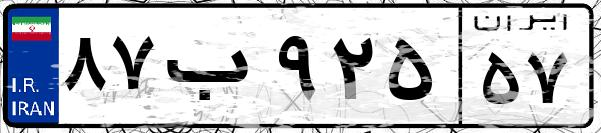2: (330, 28, 385, 110)
5: (385, 28, 445, 110), (475, 38, 525, 113)
7: (525, 38, 570, 115), (110, 28, 158, 98)
8: (57, 26, 110, 100)
9: (270, 28, 330, 110)
ب: (158, 20, 270, 120)
